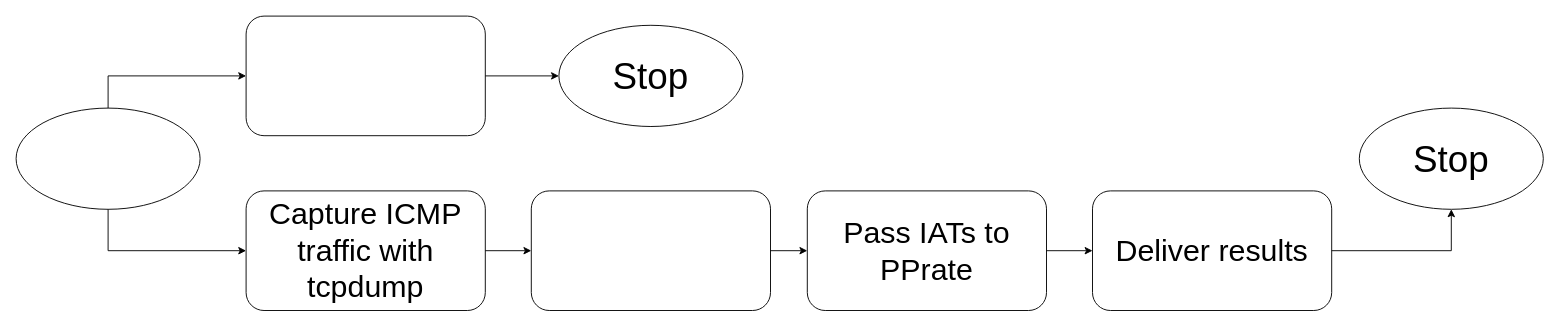
This 1559x327 diagram has some shape labels left out. The shapes that lost their labels are listed below. From the top down, each one's centre as x and y in pixels, then its label:
the point at 365,75: Generate Traffic
the point at 107,158: Start
the point at 650,250: Parse captured data and calculate IATs
